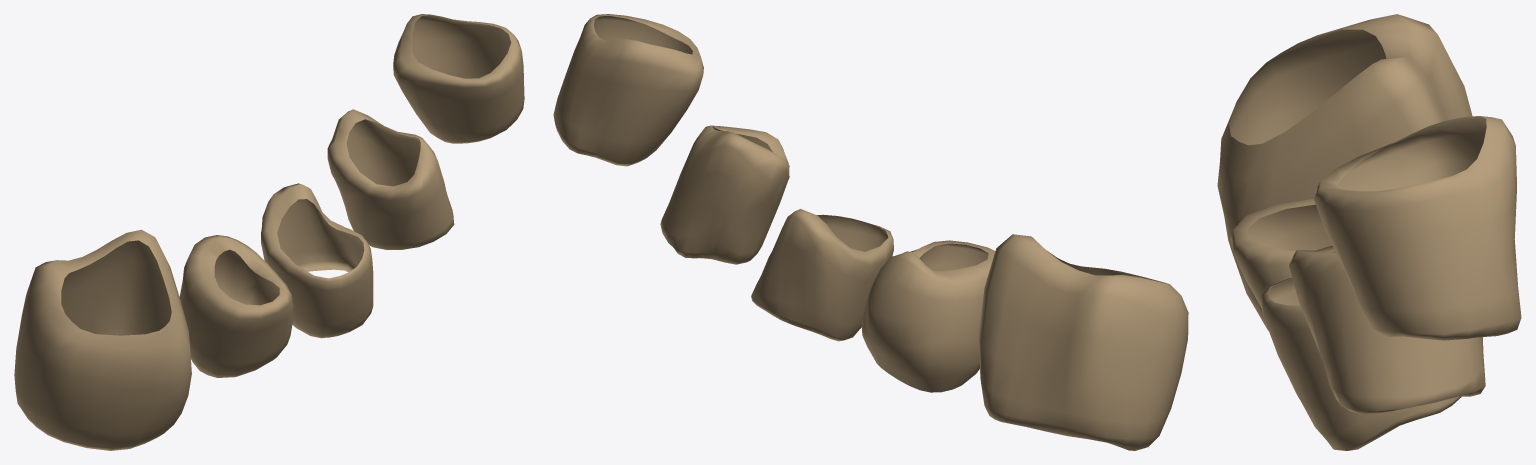
3 views of the same model, side by side, from view 1: azimuth 30°, elevation 25°; view 2: azimuth 150°, elevation 25°; view 3: azimuth 270°, elevation 25° (orthographic). The views are drawn at different scales.
Visible parts, largest first — view 1: 左侧跖趾关节囊; view 2: 左侧跖趾关节囊; view 3: 左侧跖趾关节囊.
Boxes of the visible parts, left/top/right/bottom form: 左侧跖趾关节囊: left=14, top=14, right=524, bottom=450; 左侧跖趾关节囊: left=553, top=14, right=1188, bottom=450; 左侧跖趾关节囊: left=1217, top=14, right=1521, bottom=450.
Bounding box in the file's own units: 0.119 × 0.0669 × 0.0364.
